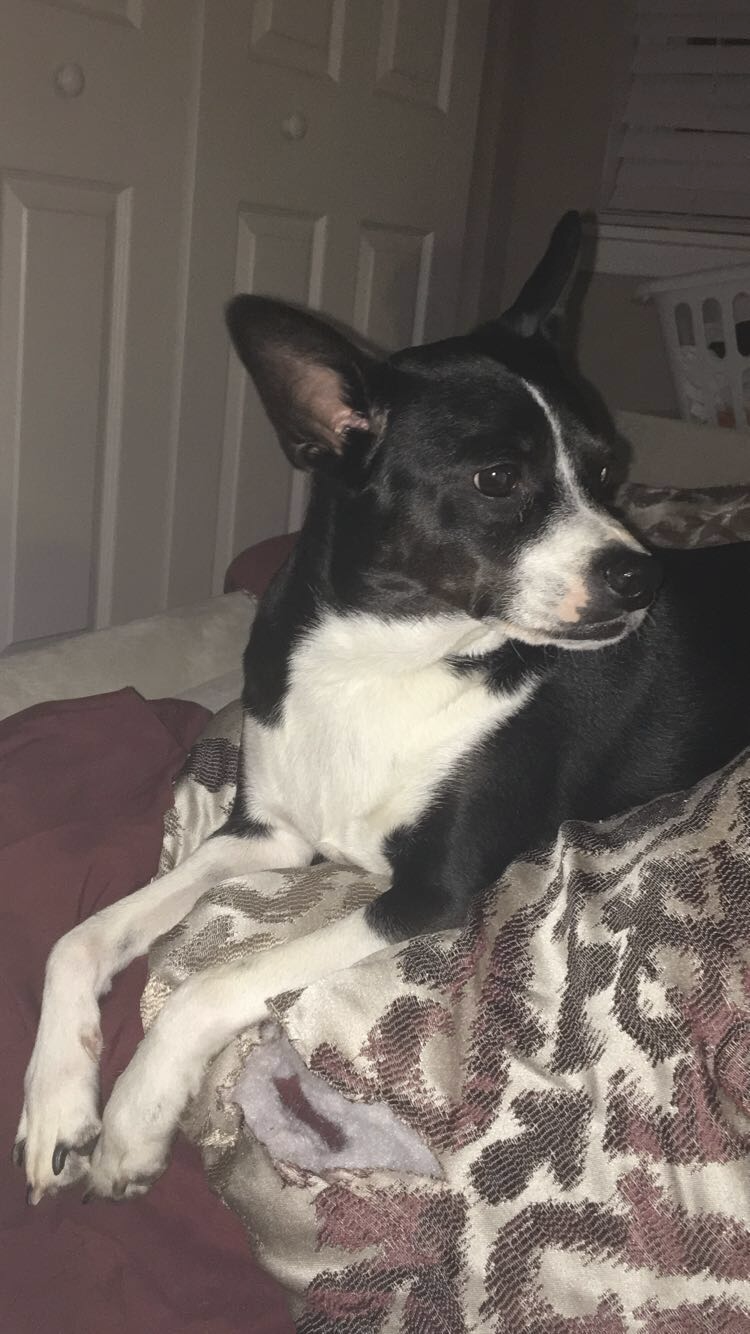Harley: (16, 202, 743, 1209)
